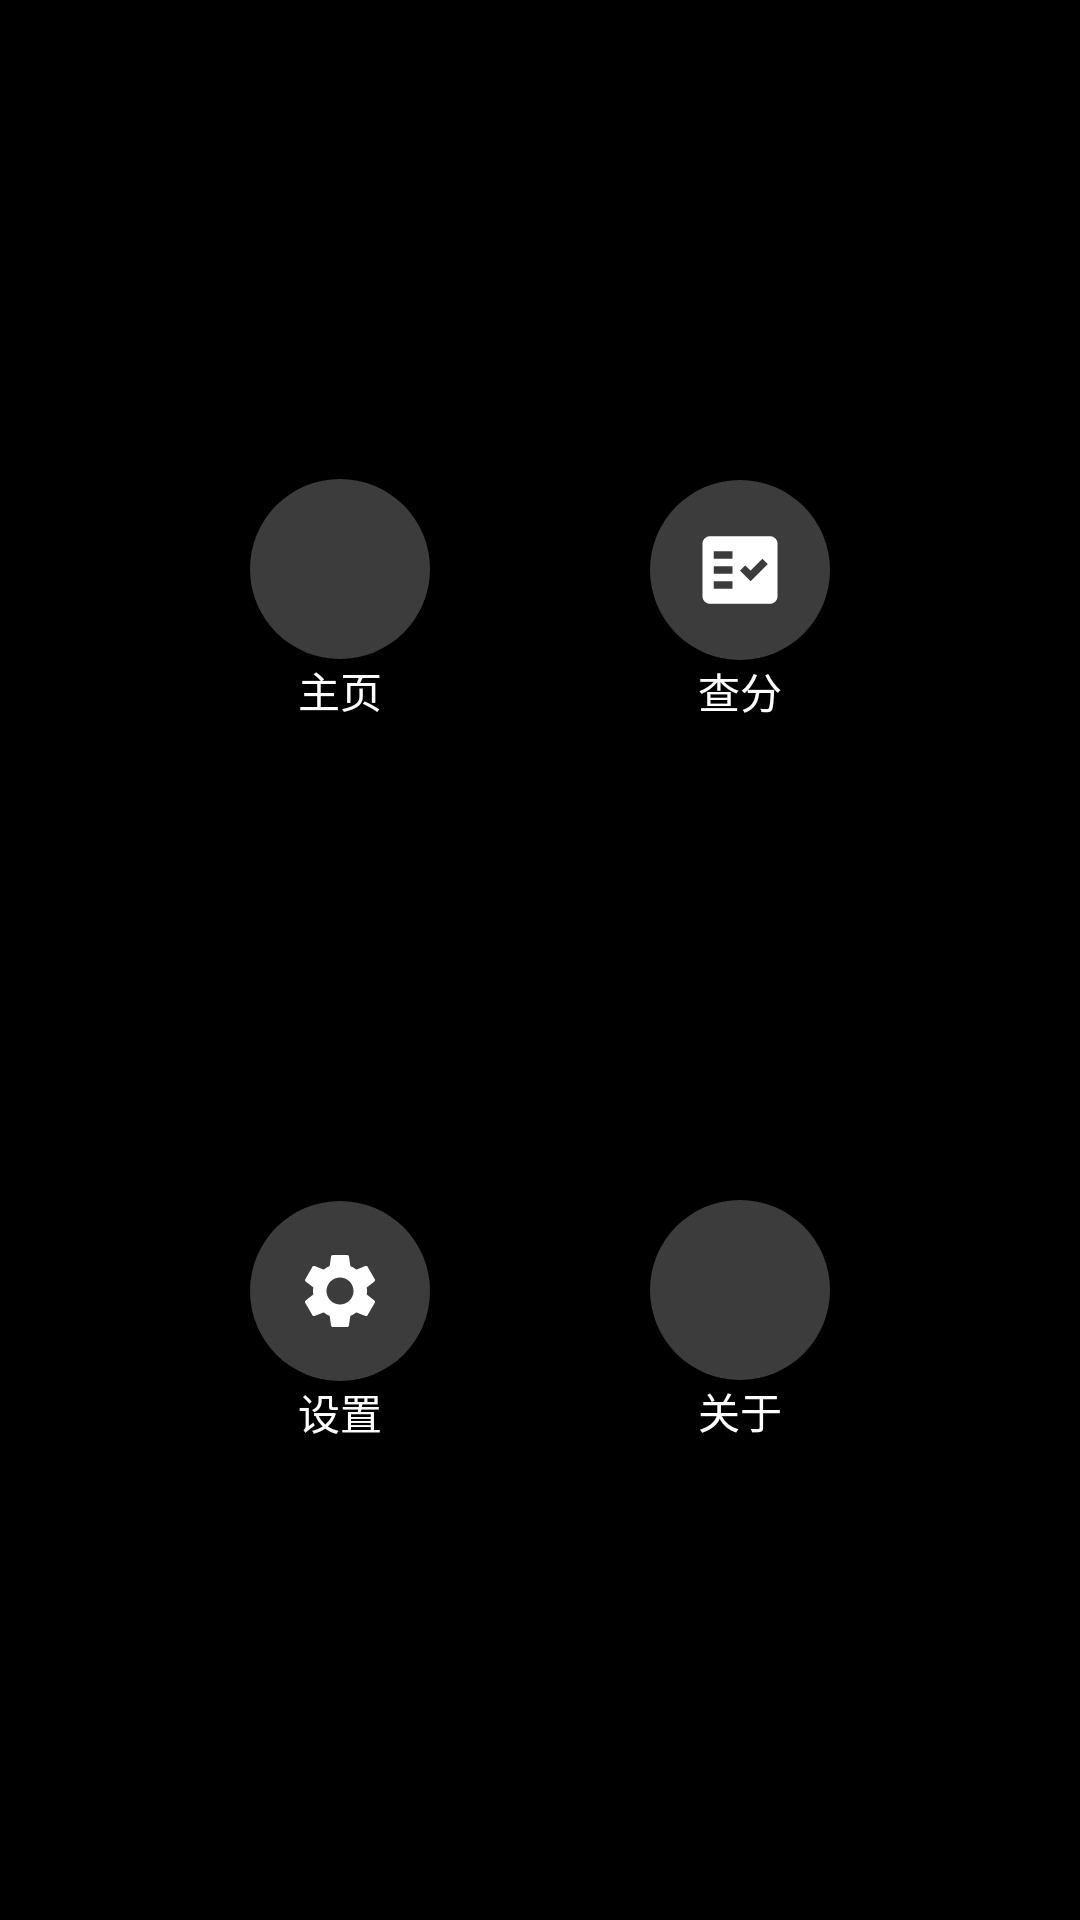

Screen size 1080 x 1920. Icon name, then its box in pixels as (x1, y1, x2, y2):
exams: (702, 536, 778, 604)
settings: (305, 1255, 375, 1327)
